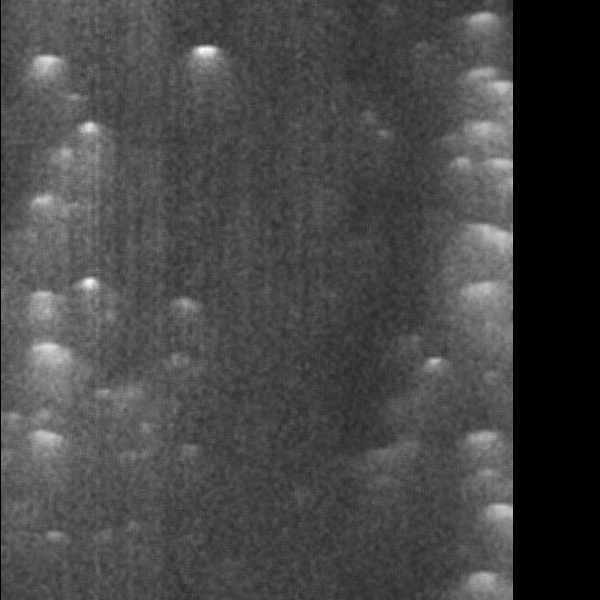spark: (16, 190, 79, 234), (8, 425, 83, 461), (17, 51, 70, 99), (17, 333, 75, 374), (462, 8, 506, 60), (455, 424, 513, 463), (191, 40, 224, 102), (457, 565, 513, 600), (72, 114, 106, 167), (484, 79, 516, 125), (76, 271, 101, 327), (420, 352, 447, 399), (167, 292, 199, 330), (10, 224, 55, 249), (443, 152, 485, 176), (490, 496, 511, 543), (88, 384, 119, 409), (478, 367, 509, 387), (41, 525, 65, 549), (372, 125, 397, 148)
